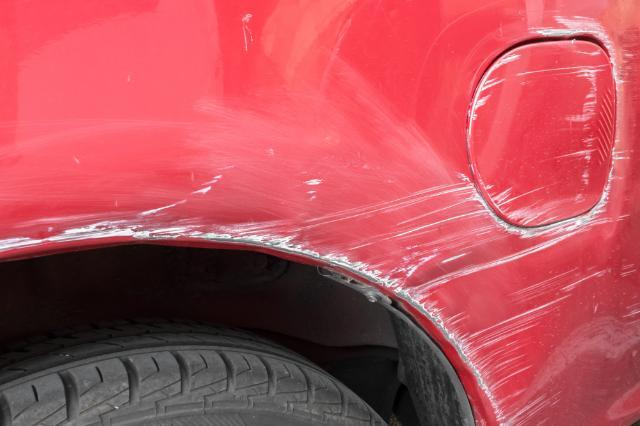scratch: (0, 7, 640, 426), (466, 43, 616, 228)
